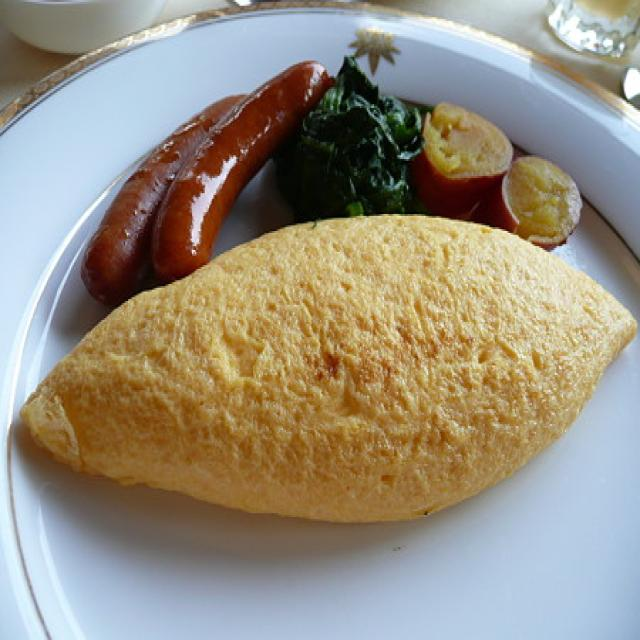鸡蛋料理: (0, 324, 614, 640)
